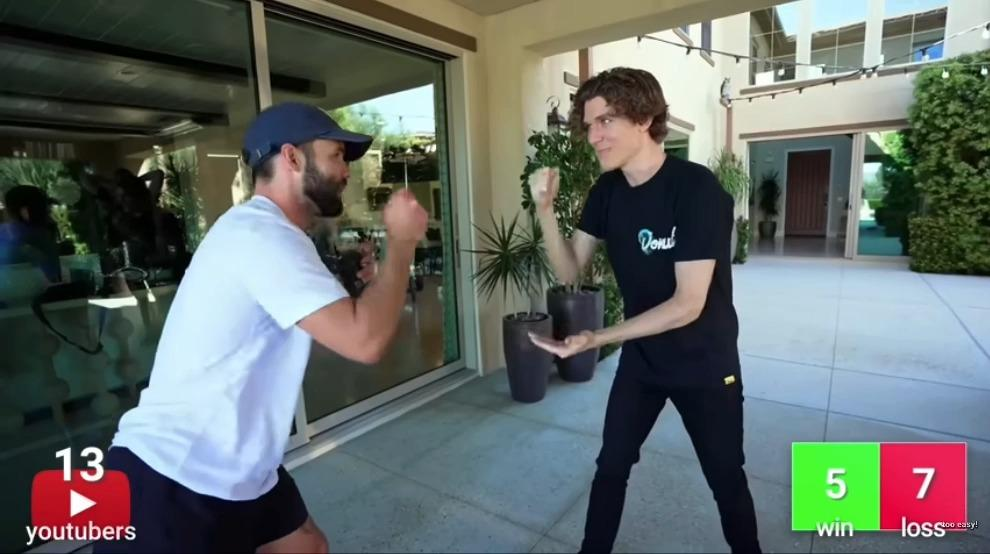Rock: (385, 188, 431, 243), (529, 165, 563, 207)
